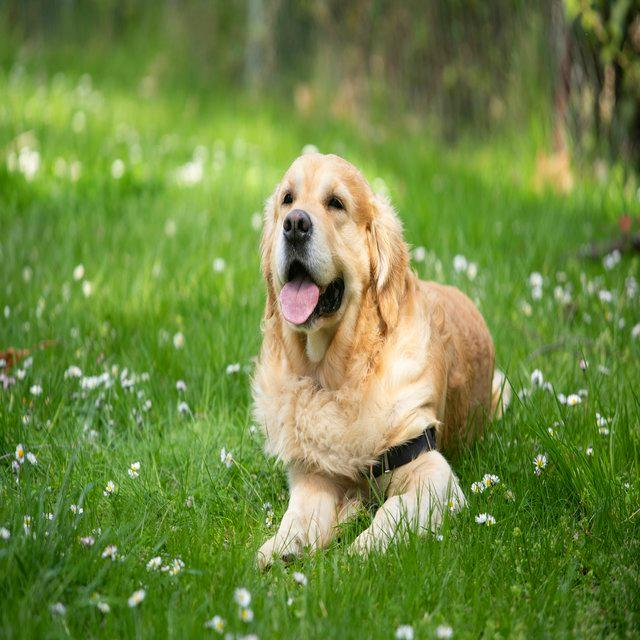retriever: (249, 150, 512, 572)
